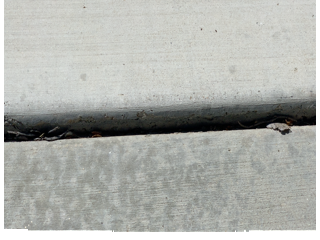Uplift: (5, 91, 319, 147)
